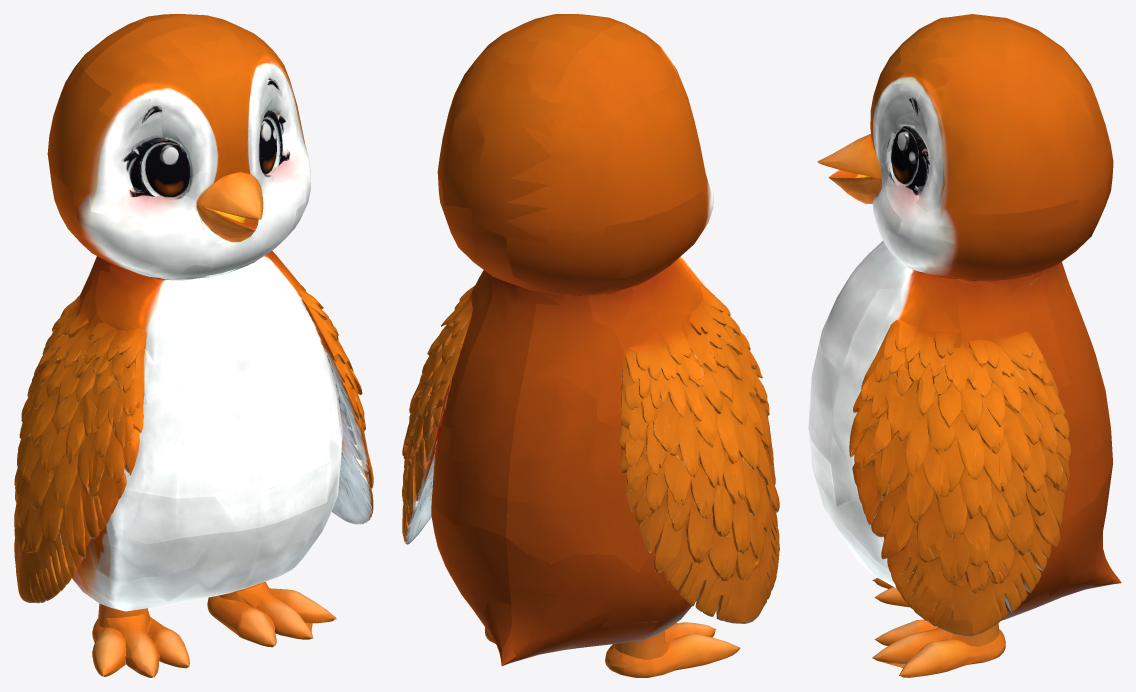
The model's file is penguin.glb.
3 views of the same model, side by side, from view 1: azimuth 30°, elevation 25°; view 2: azimuth 150°, elevation 25°; view 3: azimuth 270°, elevation 25° (orthographic). The views are drawn at different scales.
Bounding box in the file's own units: 1.1 × 1.9 × 0.9066.
Materials: 1 (1 with a texture image).
